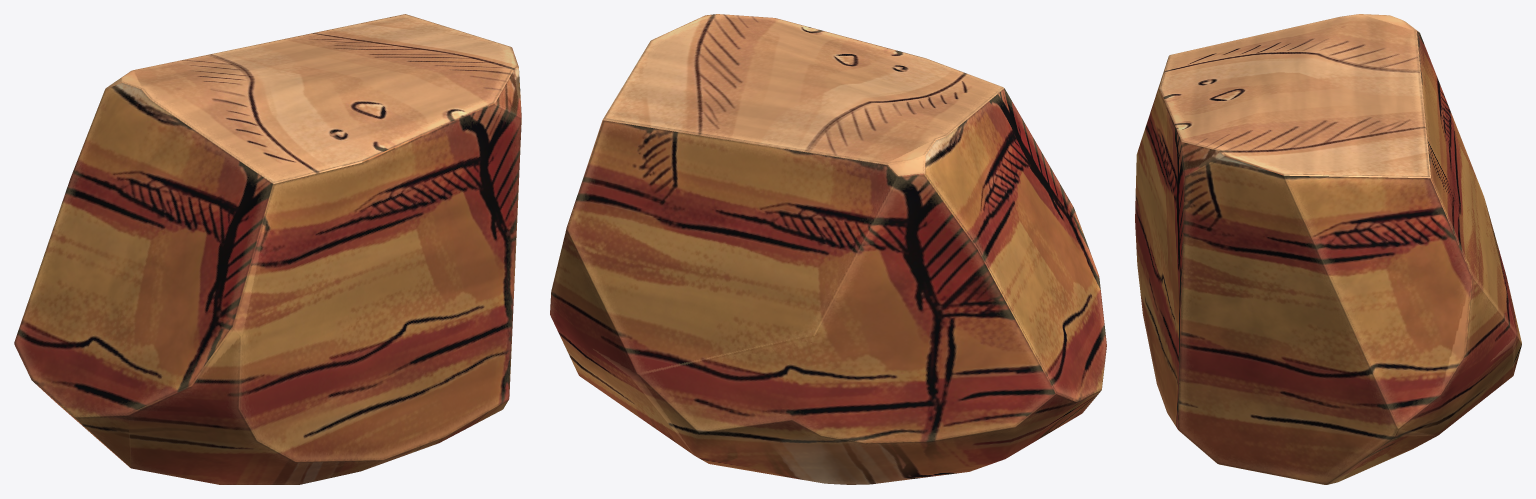
The model's file is rock_03.glb.
3 views of the same model, side by side, from view 1: azimuth 30°, elevation 25°; view 2: azimuth 150°, elevation 25°; view 3: azimuth 270°, elevation 25° (orthographic). The views are drawn at different scales.
Parts seen in each view (by area): view 1: rock_03; view 2: rock_03; view 3: rock_03.
Part boxes in pixels (x1=…): rock_03: x1=14, y1=14, x2=521, y2=484; rock_03: x1=550, y1=14, x2=1106, y2=484; rock_03: x1=1135, y1=14, x2=1521, y2=484.
Bounding box in the file's own units: 0.9186 × 0.6 × 0.6594.
Materials: 1 (1 with a texture image).
